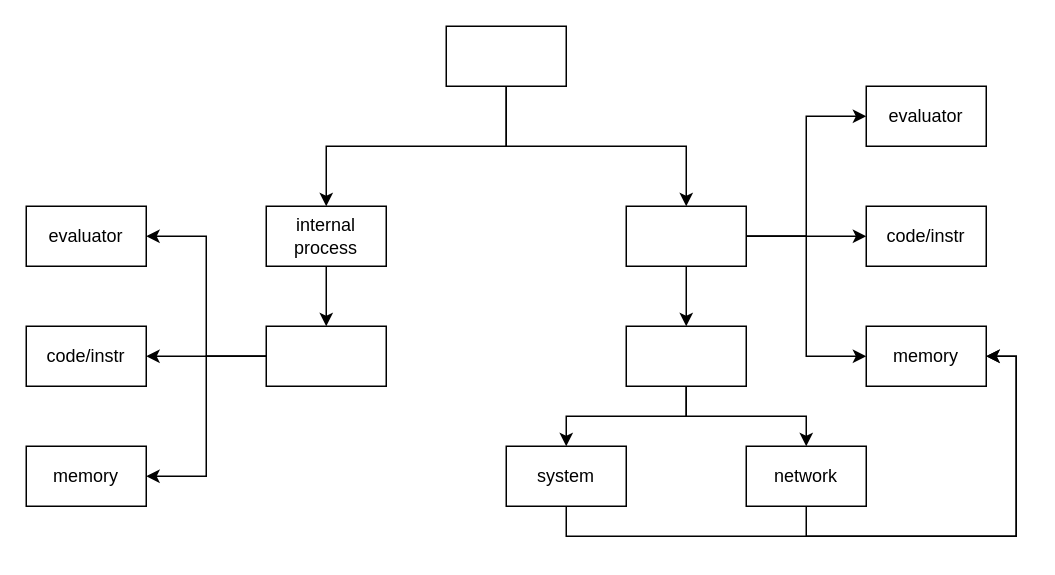
The diagram is 1055 pixels wide and 575 high, and some of its shapes have lost their labels. Here are the shapes that lost their labels. From the top down, the box of each, then its label:
(445, 25, 566, 86): process manager
(625, 205, 746, 266): external process
(265, 325, 386, 386): piece of program
(625, 325, 746, 386): IO
